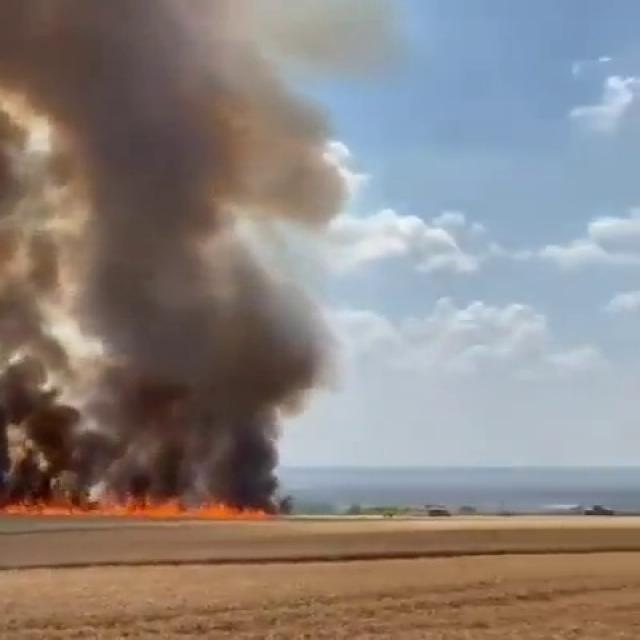Fire: (0, 495, 275, 520)
Smoke: (8, 0, 350, 505)
